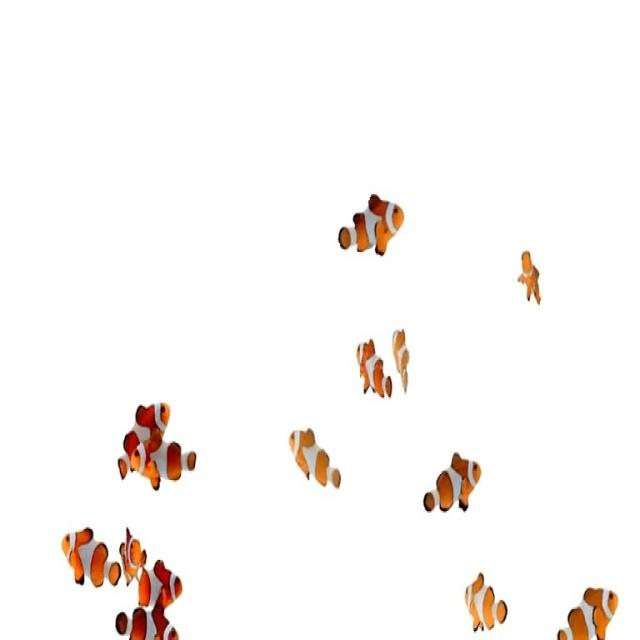fish: (335, 176, 407, 269), (417, 436, 486, 522), (114, 397, 175, 494), (282, 423, 348, 503), (550, 567, 622, 640), (59, 521, 123, 600), (129, 434, 207, 491), (356, 318, 396, 411), (458, 566, 508, 636), (133, 550, 186, 614), (114, 600, 190, 640), (113, 506, 146, 588), (390, 316, 417, 396), (517, 245, 544, 309)
